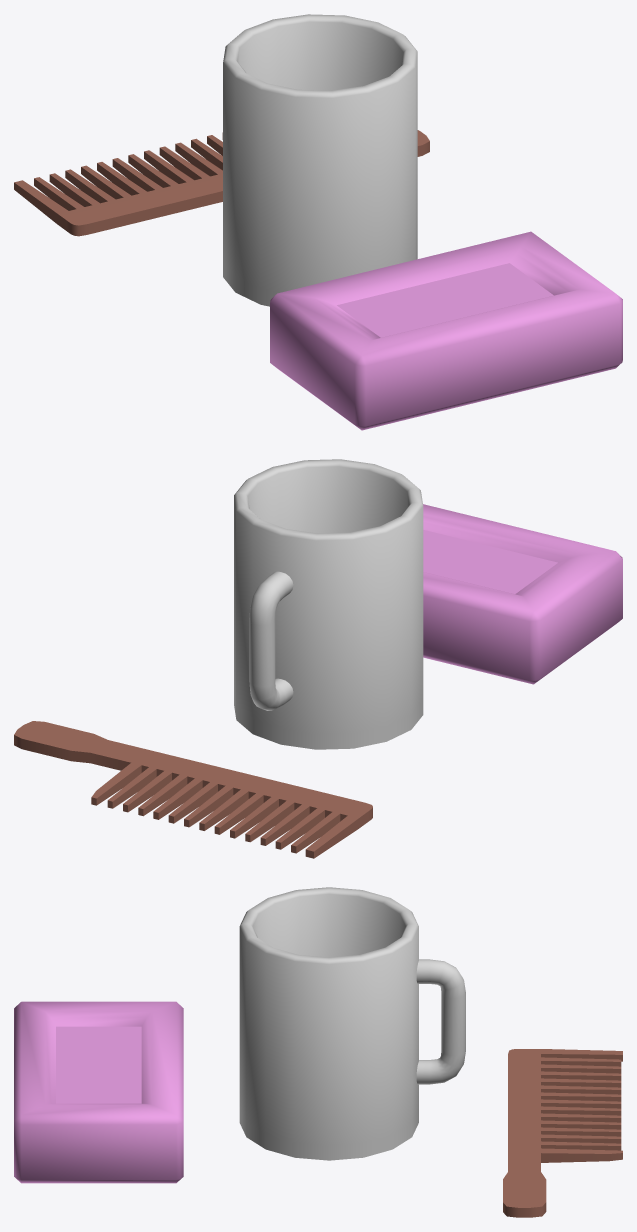
The model's file is Tolietry.fbx.
3 views of the same model, one above another, from view 1: azimuth 30°, elevation 25°; view 2: azimuth 150°, elevation 25°; view 3: azimuth 270°, elevation 25° (orthographic). The views are drawn at different scales.
Visible parts, largest first — view 1: Cylinder.001, Cube, Cube.001; view 2: Cylinder.001, Cube, Cube.001; view 3: Cylinder.001, Cube, Cube.001.
Boxes of the visible parts, <box> form: Cylinder.001: <box>223,14,417,306</box>; Cube: <box>270,231,622,430</box>; Cube.001: <box>14,130,429,236</box>; Cylinder.001: <box>234,459,423,749</box>; Cube: <box>423,504,622,684</box>; Cube.001: <box>14,721,372,858</box>; Cylinder.001: <box>239,887,465,1160</box>; Cube: <box>14,1001,183,1183</box>; Cube.001: <box>503,1049,622,1217</box>.
Bounding box in the file's own units: 111 × 65.78 × 179.
